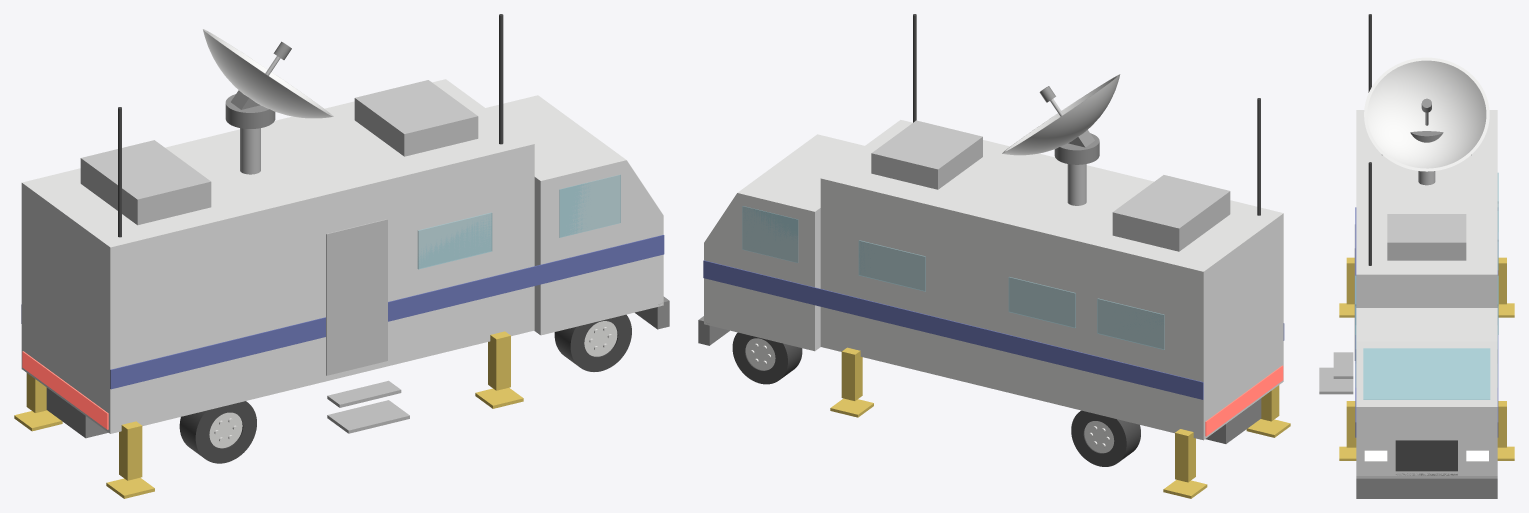
Rendered from command-truck.glb.
The picture shows the model from 3 angles, left to right: view 1: azimuth 30°, elevation 25°; view 2: azimuth 150°, elevation 25°; view 3: azimuth 270°, elevation 25°; orthographic projection. The views are drawn at different scales.
Visible parts, largest first — view 1: body, cab, ac-units, stripe, side-door, stabiliser-jacks, dish-reflector, cab-windows, body-windows, wheel-2r-tire, door-steps, wheel-1r-tire (+7 smaller); view 2: body, cab, ac-units, stripe, body-windows, stabiliser-jacks, dish-reflector, cab-windows, wheel-2l-tire, wheel-1l-tire, chassis, tail-lights (+5 smaller); view 3: cab, body, dish-reflector, cab-windows, ac-units, chassis, stabiliser-jacks, grille, door-steps, whip-antennas, headlights, stripe (+3 smaller).
Part boxes in pixels (x1,y1,x2,y2): body: (21,79,534,433); cab: (486,95,663,335); ac-units: (80,80,478,225); stripe: (21,235,664,389); side-door: (326,219,387,375); stabiliser-jacks: (14,331,523,498); dish-reflector: (203,29,333,118); cab-windows: (559,174,620,237); body-windows: (417,212,492,269); wheel-2r-tire: (179,401,256,463); door-steps: (327,380,409,433); wheel-1r-tire: (554,314,631,371); body: (820,120,1283,440); cab: (704,134,864,351); ac-units: (871,120,1230,251); stripe: (703,260,1284,399); body-windows: (858,240,1164,349); stabiliser-jacks: (830,347,1290,498); dish-reflector: (1002,74,1120,155); cab-windows: (742,206,798,262); wheel-2l-tire: (1071,410,1140,466); wheel-1l-tire: (732,332,802,384); chassis: (698,316,1261,443); tail-lights: (1205,365,1283,436); cab: (1356,308,1497,475); body: (1356,110,1497,307); dish-reflector: (1364,57,1489,171); cab-windows: (1355,325,1497,399); ac-units: (1381,154,1471,260); chassis: (1356,473,1497,498); stabiliser-jacks: (1339,257,1514,460); grille: (1395,440,1457,471); door-steps: (1319,352,1353,394); whip-antennas: (1368,14,1371,265); headlights: (1364,450,1488,461); stripe: (1355,207,1498,437).
Bounding box in the file's own units: 9.12 × 5.96 × 3.45.
